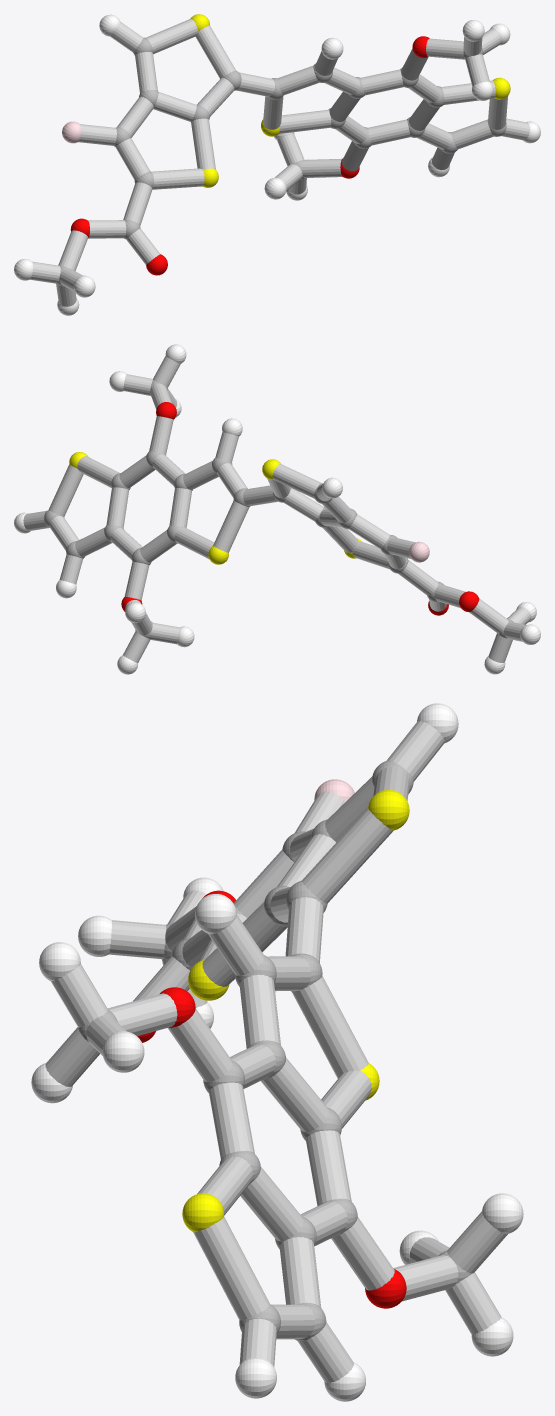
The model's file is Dimethoxy_Benzodithiophene_Phi_20_Theta_70_Methylcarbonyl_3_Fluoro_Thienothiophene.glb.
3 renders of one model, top to bottom at view 1: azimuth 30°, elevation 25°; view 2: azimuth 150°, elevation 25°; view 3: azimuth 270°, elevation 25°, orthographic. The views are drawn at different scales.
Parts seen in each view (by area): view 1: grp15205, grp8689, grp1, grp13395, grp7241; view 2: grp15205, grp8689, grp1, grp13395, grp7241; view 3: grp15205, grp8689, grp1, grp7241, grp13395.
Part boxes in pixels (x1,y1,x2,y2): grp15205: (30, 19, 530, 306); grp8689: (14, 14, 540, 315); grp1: (57, 37, 506, 286); grp13395: (70, 36, 429, 275); grp7241: (190, 14, 510, 187); grp15205: (23, 356, 530, 662); grp8689: (14, 344, 540, 674); grp1: (44, 380, 513, 638); grp13395: (121, 402, 479, 615); grp7241: (69, 452, 361, 564); grp15205: (45, 721, 507, 1382); grp8689: (31, 703, 523, 1401); grp1: (78, 760, 471, 1341); grp7241: (182, 790, 409, 1232); grp13395: (137, 890, 406, 1308).
Size of the model in its own units: 16.93 by 7.43 by 7.06.
